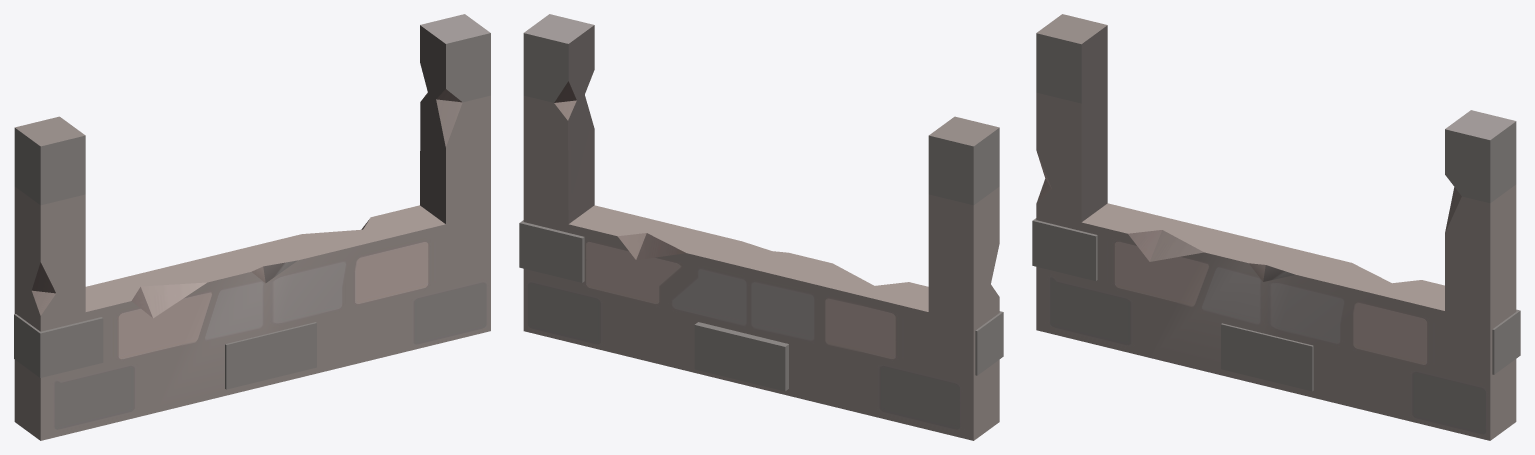
The model's file is SM_SmallWall_07.fbx.
3 renders of one model, left to right at view 1: azimuth 30°, elevation 25°; view 2: azimuth 150°, elevation 25°; view 3: azimuth 330°, elevation 25°, orthographic.
Visible parts, largest first — view 1: SM_SmallWall_07; view 2: SM_SmallWall_07; view 3: SM_SmallWall_07.
Part boxes in pixels (<box>): SM_SmallWall_07: <box>14,14,490,440</box>; SM_SmallWall_07: <box>519,14,1003,440</box>; SM_SmallWall_07: <box>1032,14,1520,440</box>.
Size of the model in its own units: 2.02 by 1.27 by 0.243.
